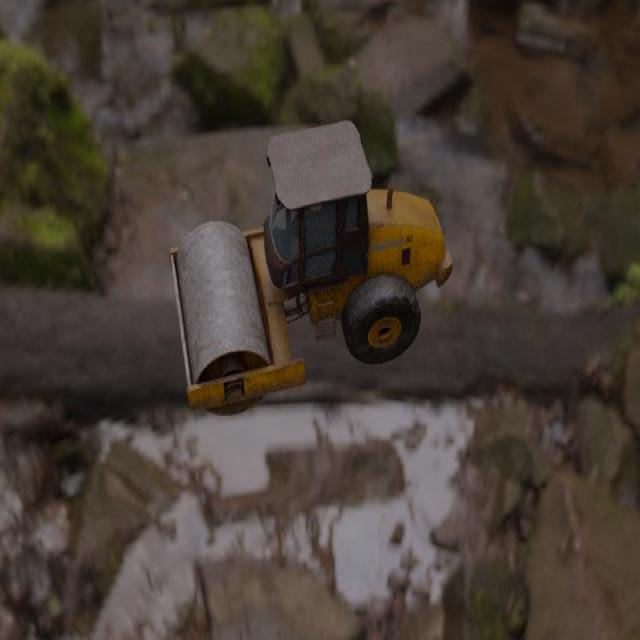Roller: (168, 120, 453, 416)
